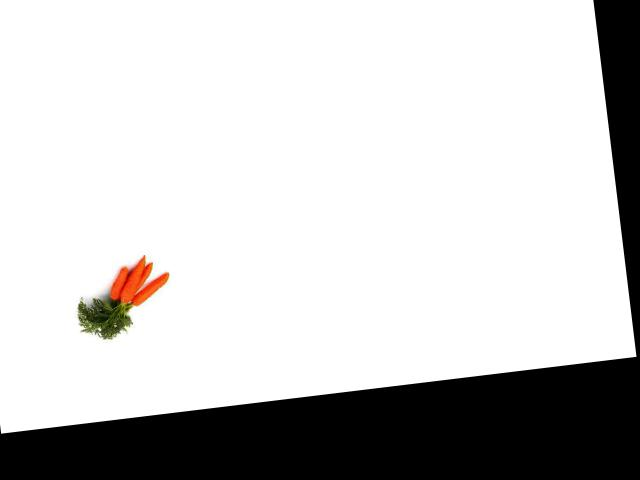carrot: (105, 266, 127, 301)
